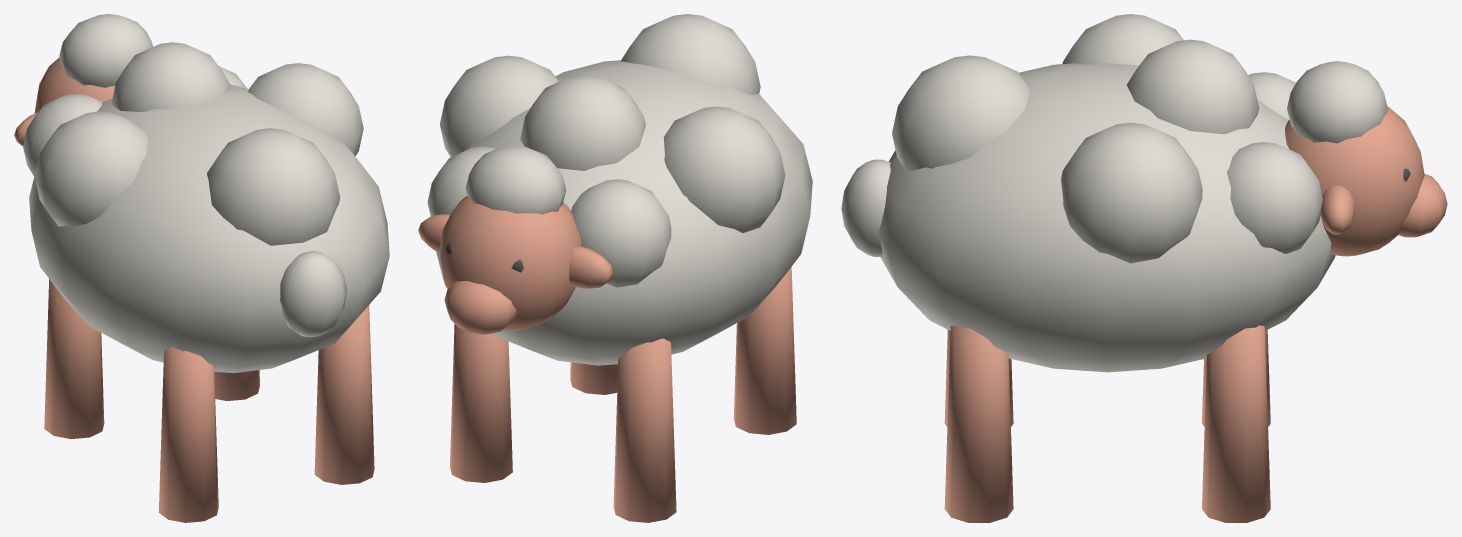
Rendered from sheep.glb.
3 views of the same model, side by side, from view 1: azimuth 30°, elevation 25°; view 2: azimuth 150°, elevation 25°; view 3: azimuth 270°, elevation 25° (orthographic). The views are drawn at different scales.
Parts seen in each view (by area): view 1: s_bodymesh, legBL, legBR, legFL, legFR; view 2: s_bodymesh, legFL, legFR, legBL, legBR; view 3: s_bodymesh, legBR, legFR.
Boxes of the visible parts, x1=… form: s_bodymesh: x1=14, y1=14, x2=389, y2=373; legBL: x1=158, y1=347, x2=218, y2=522; legBR: x1=314, y1=305, x2=374, y2=484; legFL: x1=44, y1=279, x2=104, y2=438; legFR: x1=214, y1=370, x2=259, y2=400; s_bodymesh: x1=418, y1=14, x2=812, y2=365; legFL: x1=613, y1=338, x2=676, y2=522; legFR: x1=450, y1=324, x2=512, y2=482; legBL: x1=733, y1=267, x2=796, y2=434; legBR: x1=570, y1=362, x2=617, y2=394; s_bodymesh: x1=841, y1=14, x2=1447, y2=372; legBR: x1=944, y1=325, x2=1013, y2=522; legFR: x1=1202, y1=325, x2=1270, y2=522.
Bounding box in the file's own units: 0.88 × 1.01 × 1.32.
